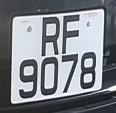0: (39, 53, 62, 98)
7: (60, 50, 81, 94)
8: (80, 48, 98, 91)
9: (14, 54, 40, 104)
F: (60, 13, 85, 55)
R: (36, 14, 65, 60)
